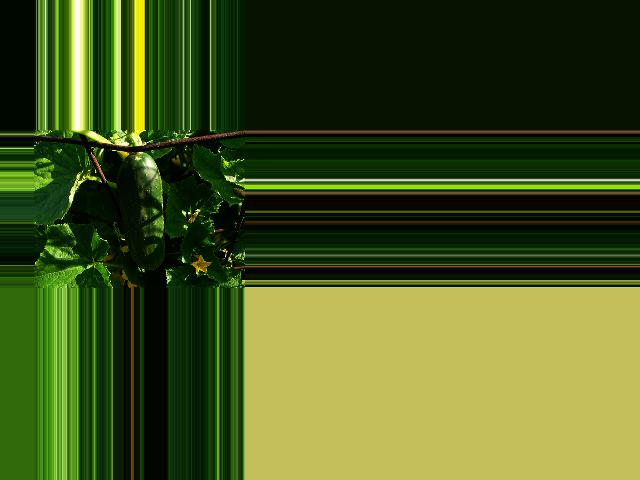cucumber: (115, 152, 164, 270)
